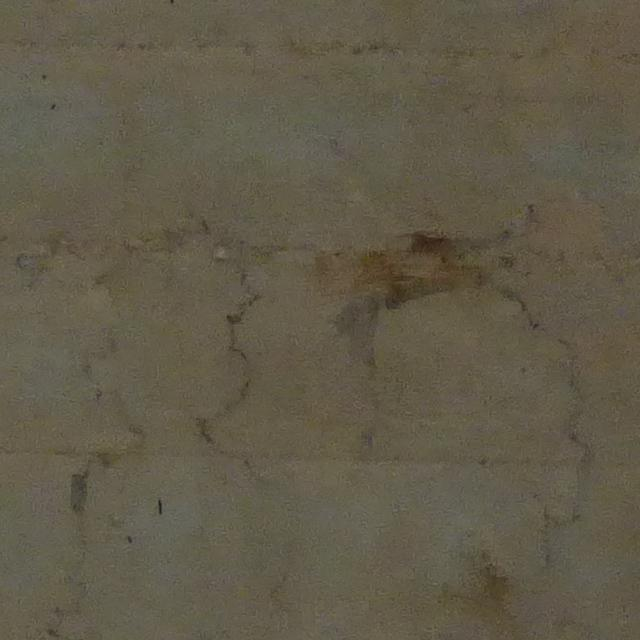Rust: (408, 230, 464, 259)
